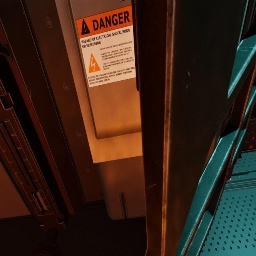SafetySwitchPanel ,: (54, 0, 142, 163)
